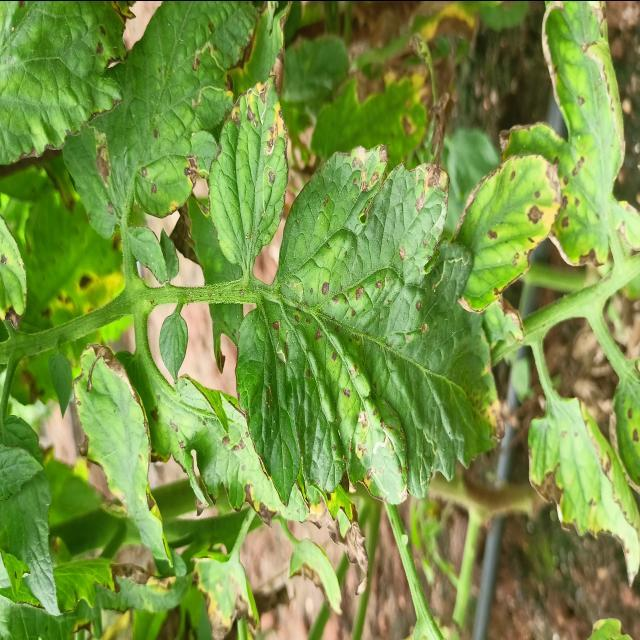Tomato mosaic virus leaf: (292, 255, 394, 434), (164, 367, 272, 532), (203, 68, 290, 262), (470, 146, 568, 316), (70, 337, 158, 520), (114, 96, 202, 216), (390, 154, 452, 283), (310, 140, 390, 232), (0, 212, 31, 334)
